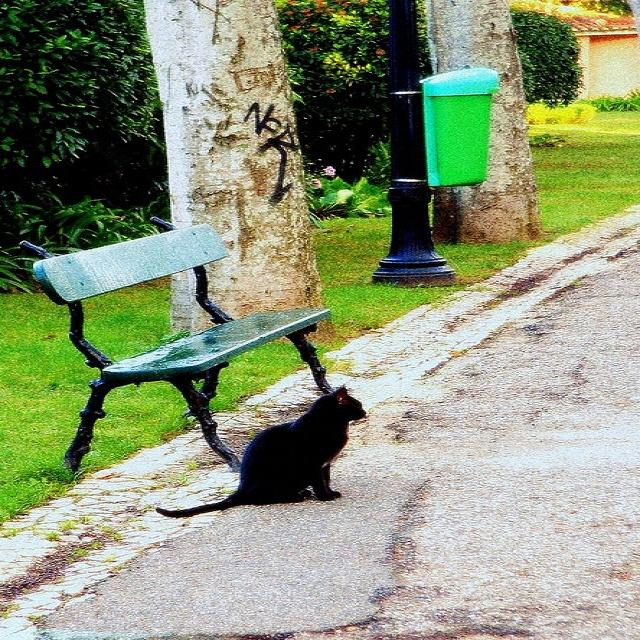fire_hydrant: (368, 177, 454, 288)
